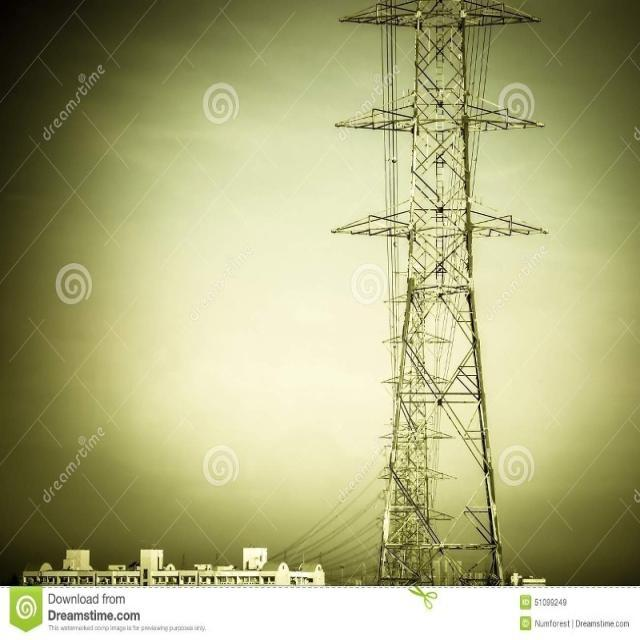non-critical vegetation: (324, 0, 554, 584)
